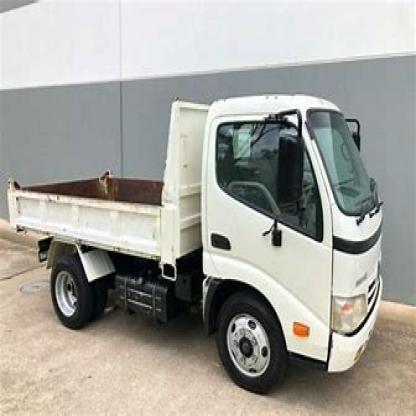dump_truck: (9, 71, 401, 401)
